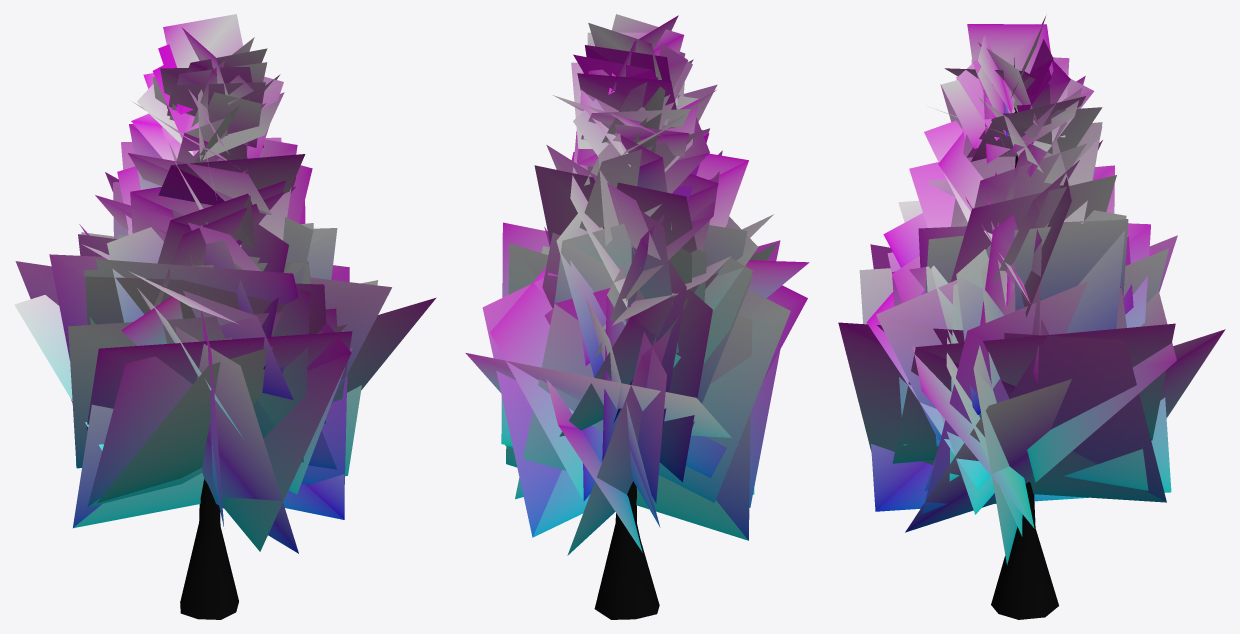
File: thuja_01_small_high.dae
3 renders of one model, left to right at view 1: azimuth 30°, elevation 25°; view 2: azimuth 150°, elevation 25°; view 3: azimuth 270°, elevation 25°, orthographic.
Visible parts, largest first — view 1: thuja80; view 2: thuja80; view 3: thuja80.
Part boxes in pixels (box(x1,y1,x2,y2)): thuja80: box(14, 14, 436, 619); thuja80: box(465, 14, 809, 619); thuja80: box(838, 16, 1225, 619).
Size of what is drawn, in the model's own units: 3.12 by 3.21 by 5.27.
